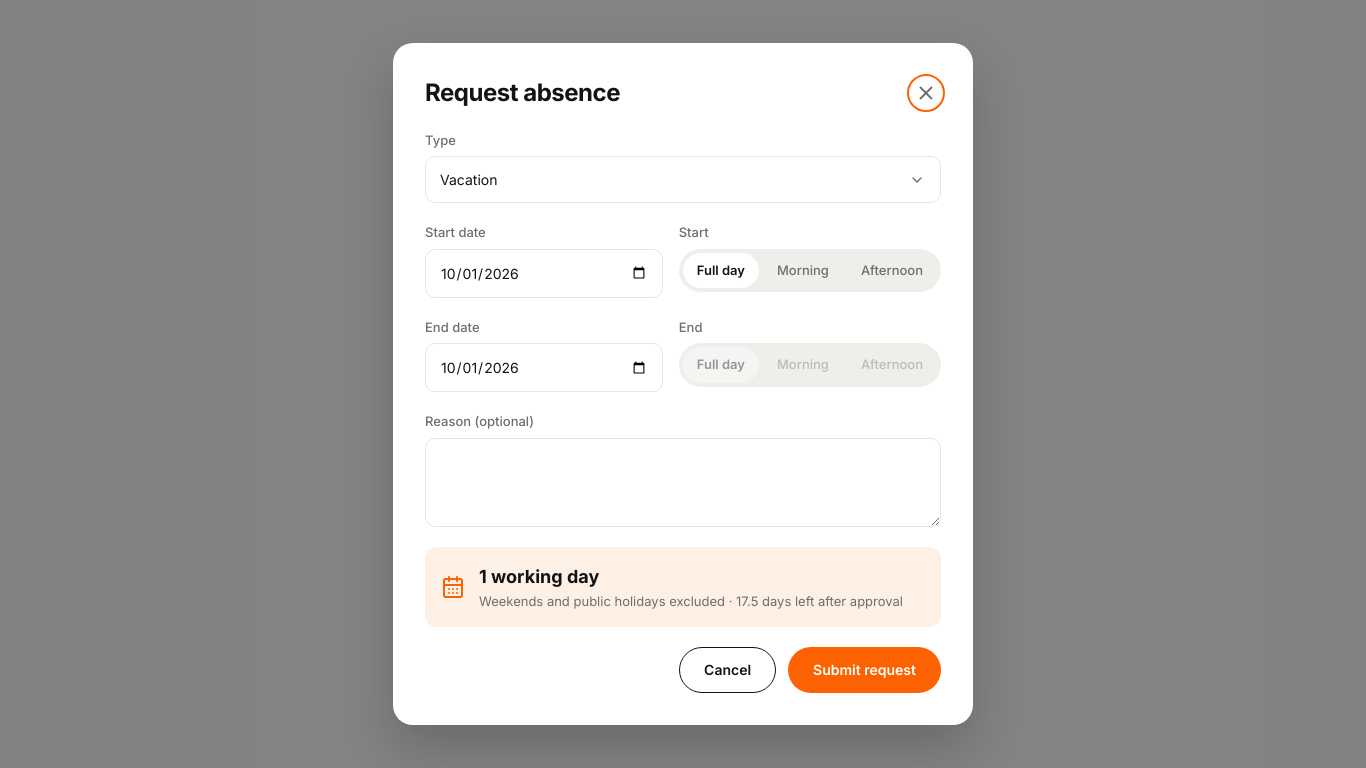
Test: RequestAbsenceDialog › makes a single day a half day, with the end following the start
Click the 1st radio button labelled "Afternoon" at (892, 270), box [861,262,923,278]
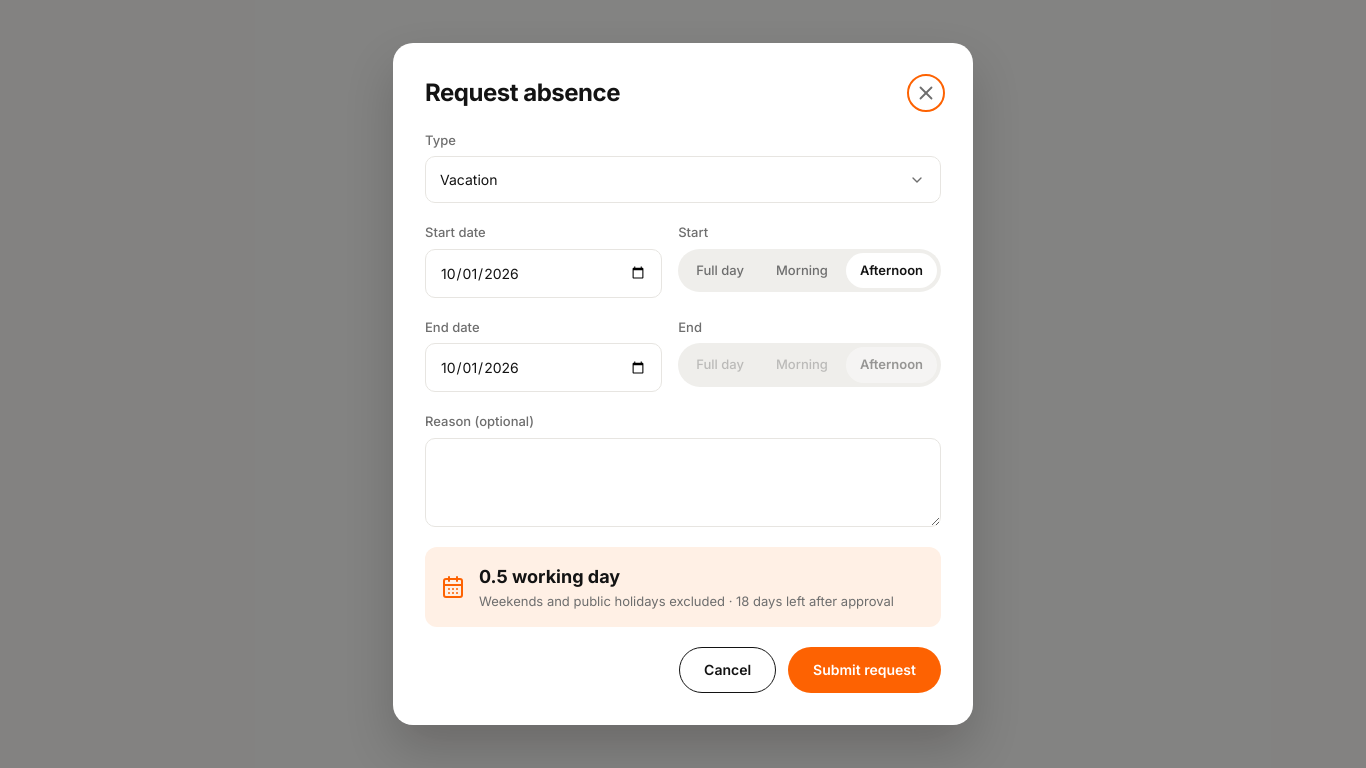
Result: the 2nd radio button labelled "Afternoon" is checked at [846,347,937,383]
